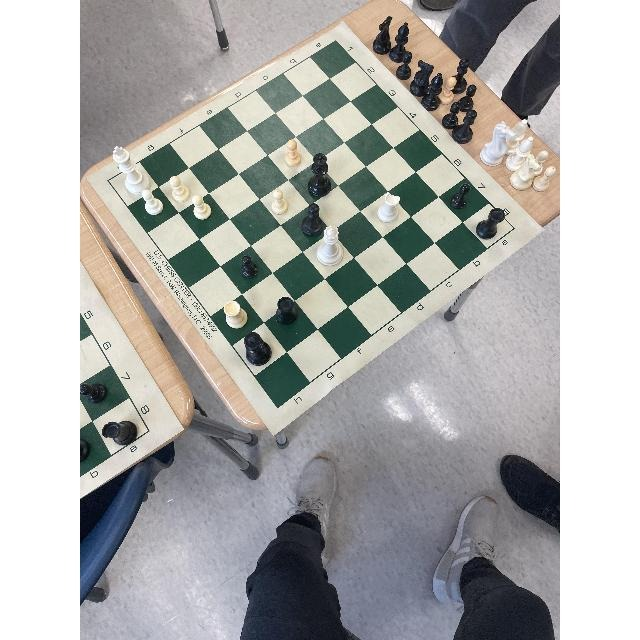black-bishop: (443, 52, 484, 153)
black-pawn: (302, 147, 357, 189), (286, 146, 337, 188), (232, 324, 278, 368), (469, 205, 508, 241), (267, 289, 301, 328), (80, 377, 110, 408), (80, 436, 94, 468)
black-rook: (98, 416, 139, 447)
white-bishop: (402, 241, 470, 305), (275, 331, 345, 390), (341, 285, 409, 339), (158, 112, 223, 162), (412, 182, 464, 238), (352, 238, 409, 280), (292, 286, 348, 325), (420, 154, 463, 203)
white-pawn: (309, 215, 355, 283), (162, 168, 217, 220), (246, 223, 302, 270), (269, 96, 333, 134), (360, 188, 410, 236), (214, 128, 266, 169), (210, 177, 261, 215), (368, 143, 412, 187), (273, 140, 313, 184), (80, 406, 94, 444)
white-rook: (110, 147, 168, 219)
